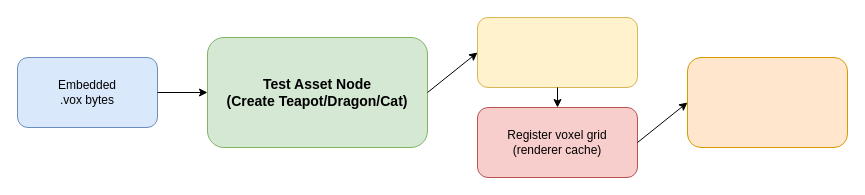
Image size: 865x195. Some labels were removed from this diagram. Here are the shapes that lost their labels. From the top down, the box of each, then its label:
(476, 16, 638, 88): VOX parser + palette
(686, 56, 848, 148): Geometry (voxel-backed)
